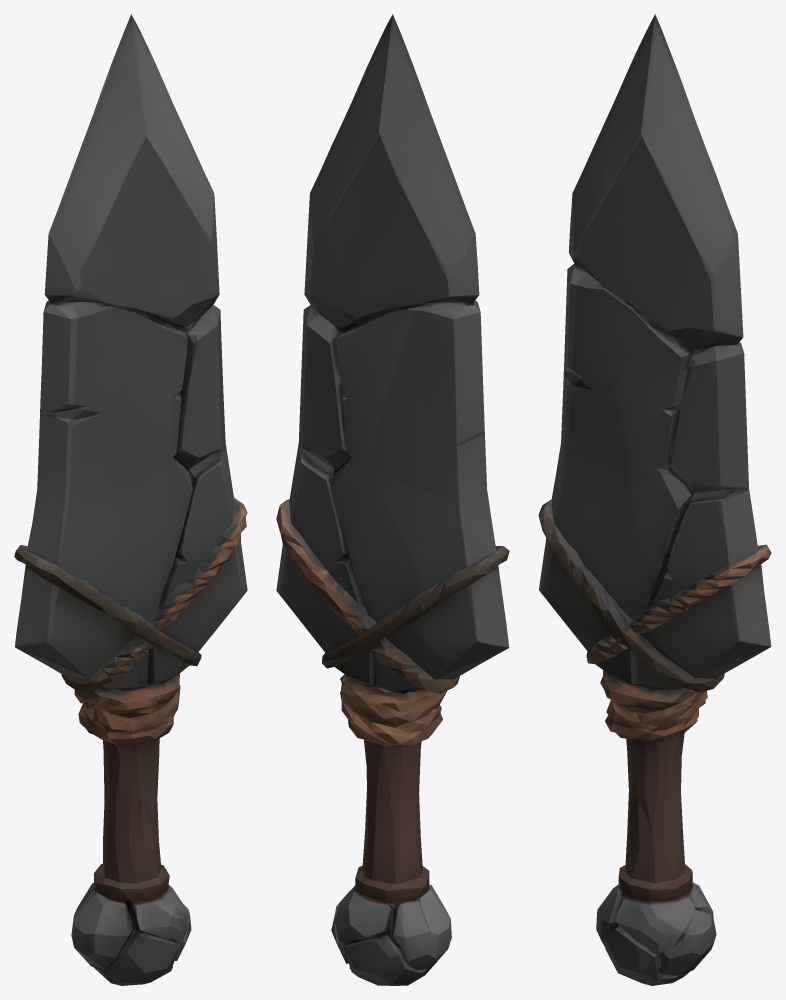
The model's file is base_basic_pbr.fbx.
3 renders of one model, left to right at view 1: azimuth 30°, elevation 25°; view 2: azimuth 150°, elevation 25°; view 3: azimuth 330°, elevation 25°, orthographic.
Parts seen in each view (by area): view 1: model; view 2: model; view 3: model.
Part boxes in pixels (x1,y1,x2,y2): model: [14, 14, 247, 985]; model: [276, 14, 509, 985]; model: [538, 14, 771, 985].
Size of the model in its own units: 43.96 by 174 by 19.29.
Materials: 1 (1 with a texture image).
